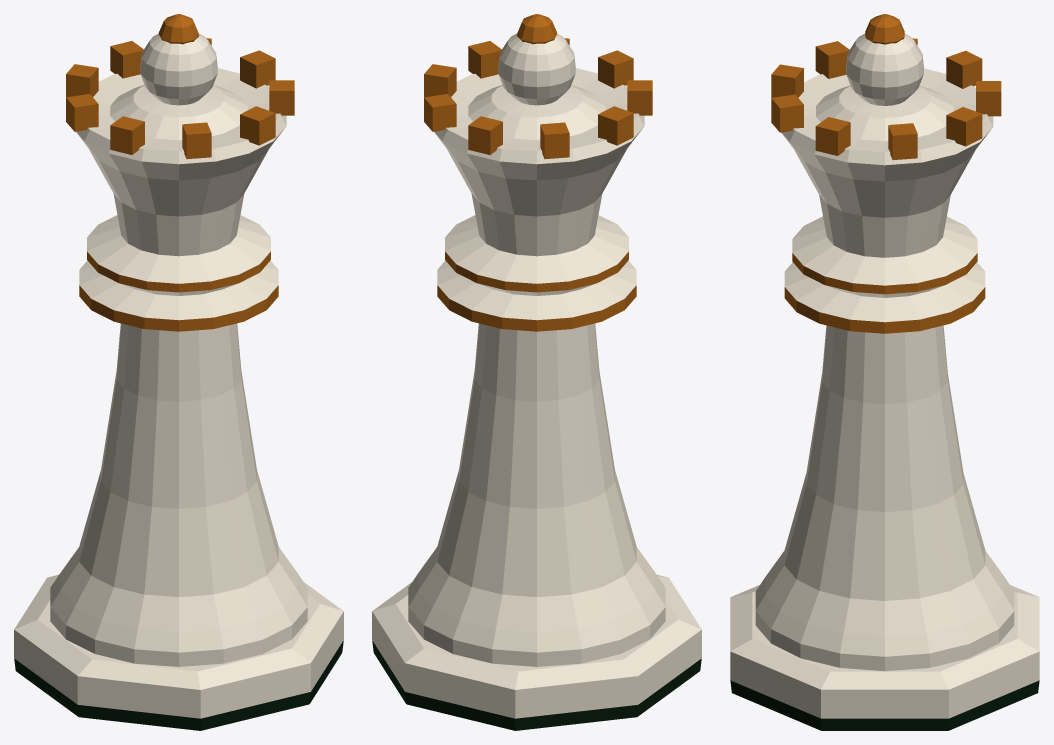
The model's file is cozy_chess_white_queen.obj.
3 views of the same model, side by side, from view 1: azimuth 30°, elevation 25°; view 2: azimuth 150°, elevation 25°; view 3: azimuth 270°, elevation 25° (orthographic).
Parts seen in each view (by area): view 1: Chess_White_Queen_Mesh; view 2: Chess_White_Queen_Mesh; view 3: Chess_White_Queen_Mesh.
Part boxes in pixels (x1,y1,x2,y2): Chess_White_Queen_Mesh: (14,14,343,730); Chess_White_Queen_Mesh: (372,14,701,730); Chess_White_Queen_Mesh: (730,14,1039,730).
Size of the model in its own units: 0.0407 by 0.0946 by 0.0407.
